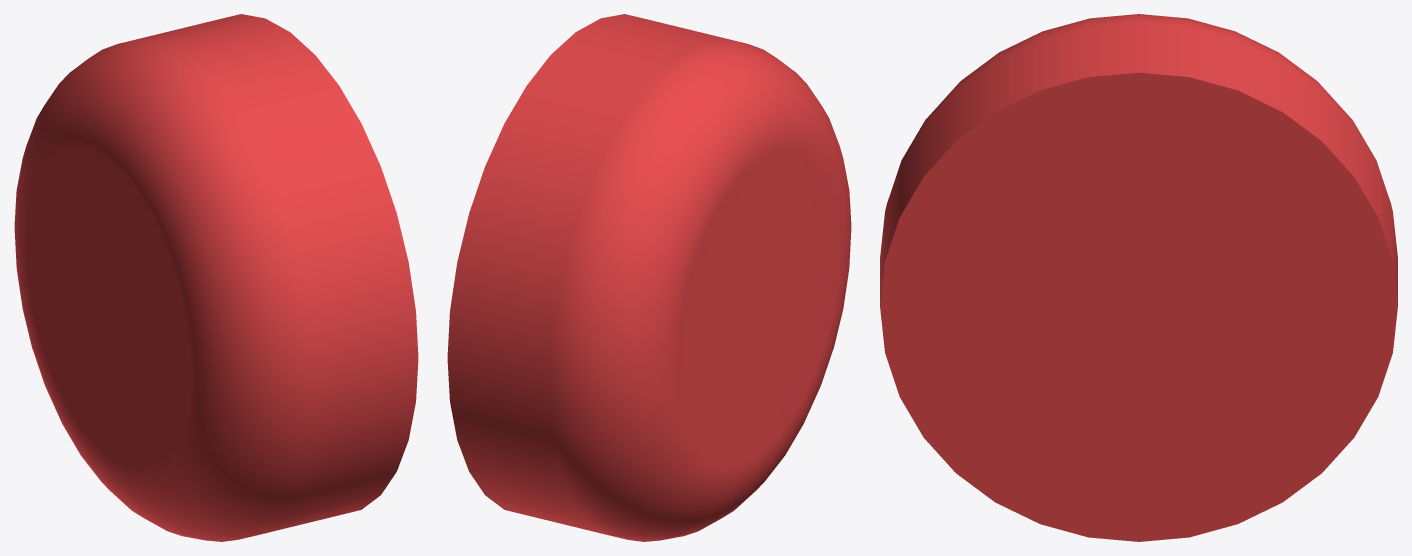
The model's file is Button_Comp.gltf.
The picture shows the model from 3 angles, left to right: view 1: azimuth 30°, elevation 25°; view 2: azimuth 150°, elevation 25°; view 3: azimuth 270°, elevation 25°; orthographic projection.
Visible parts, largest first — view 1: Cylinder.002; view 2: Cylinder.002; view 3: Cylinder.002.
Part boxes in pixels (bbox=[...]): Cylinder.002: bbox=[14, 14, 418, 541]; Cylinder.002: bbox=[447, 14, 851, 541]; Cylinder.002: bbox=[880, 14, 1397, 541].
Bounding box in the file's own units: 0.2863 × 0.699 × 0.699.
